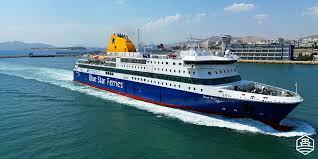Ship: (77, 35, 303, 128)
